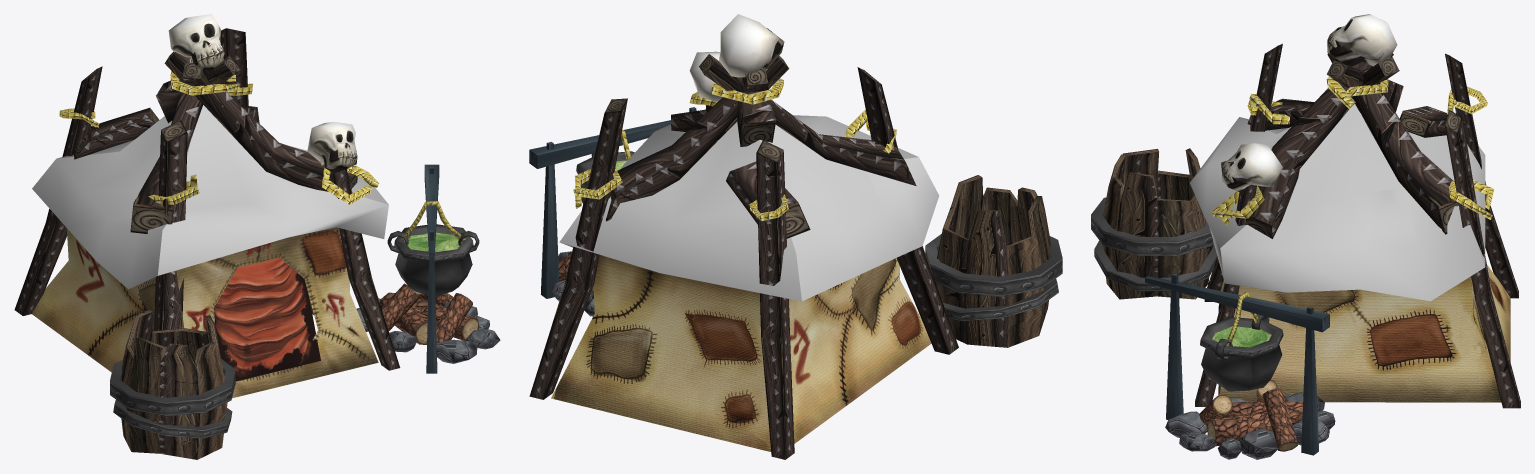
The model's file is Orc_Farm.FBX.
The picture shows the model from 3 angles, left to right: view 1: azimuth 30°, elevation 25°; view 2: azimuth 150°, elevation 25°; view 3: azimuth 270°, elevation 25°; orthographic projection. The views are drawn at different scales.
Visible parts, largest first — view 1: ceiling_trent, tent, barrel, Plane018, beam002, rod1, rod_2, Firewood, rod, Cauldron, beam001, beam (×2) (+13 smaller); view 2: tent, ceiling_trent, barrel, beam (×2), rod_2, rod_3, rod1, Ring_barrel, beam001, skull001, Grill_Stick_003, Grill_Stick_004 (+5 smaller); view 3: ceiling_trent, tent, barrel, beam (×2), rod_3, beam002, Firewood, Cauldron, mine_stones001, skull001, rod_2, Ring_barrel (+14 smaller).
Boxes of the visible parts, x1,y1,x2,y2 form: ceiling_trent: (32, 105, 388, 289); tent: (32, 227, 378, 398); barrel: (121, 309, 227, 459); Plane018: (214, 257, 320, 381); beam002: (164, 52, 357, 191); rod1: (154, 120, 187, 330); rod_2: (14, 66, 102, 315); Firewood: (365, 283, 479, 344); rod: (330, 169, 400, 370); Cauldron: (394, 224, 473, 295); beam001: (74, 55, 238, 159); beam (×2): (130, 39, 259, 233); tent: (551, 255, 931, 451); ceiling_trent: (559, 115, 939, 301); barrel: (936, 175, 1051, 347); beam (×2): (606, 54, 916, 221); rod_2: (756, 140, 794, 459); rod_3: (529, 98, 627, 399); rod1: (857, 67, 958, 354); Ring_barrel: (925, 234, 1062, 296); beam001: (726, 77, 810, 238); skull001: (719, 14, 784, 77); Grill_Stick_003: (541, 142, 559, 298); Grill_Stick_004: (529, 120, 670, 168); ceiling_trent: (1190, 104, 1485, 301); tent: (1218, 265, 1510, 402); barrel: (1102, 148, 1212, 299); beam (×2): (1247, 53, 1458, 234); rod_3: (1445, 110, 1520, 408); beam002: (1246, 53, 1393, 238); Firewood: (1199, 380, 1302, 451); Cauldron: (1200, 317, 1283, 391); mine_stones001: (1165, 391, 1335, 459); skull001: (1327, 14, 1397, 66); rod_2: (1445, 53, 1518, 298); Ring_barrel: (1091, 197, 1213, 255).
Size of the model in its own units: 2564 by 1994 by 2278.
